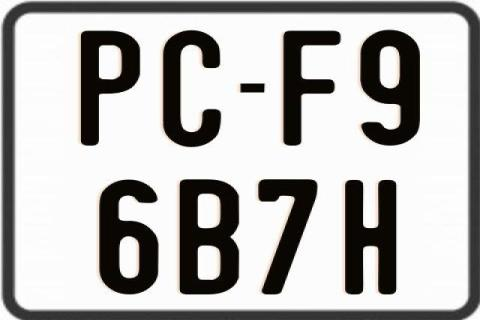0: (357, 27, 421, 147), (98, 177, 162, 297), (255, 179, 317, 295)
B: (178, 178, 240, 296)
C: (162, 28, 223, 145)
F: (282, 28, 344, 144)
H: (342, 178, 395, 294)
P: (81, 31, 142, 146)
